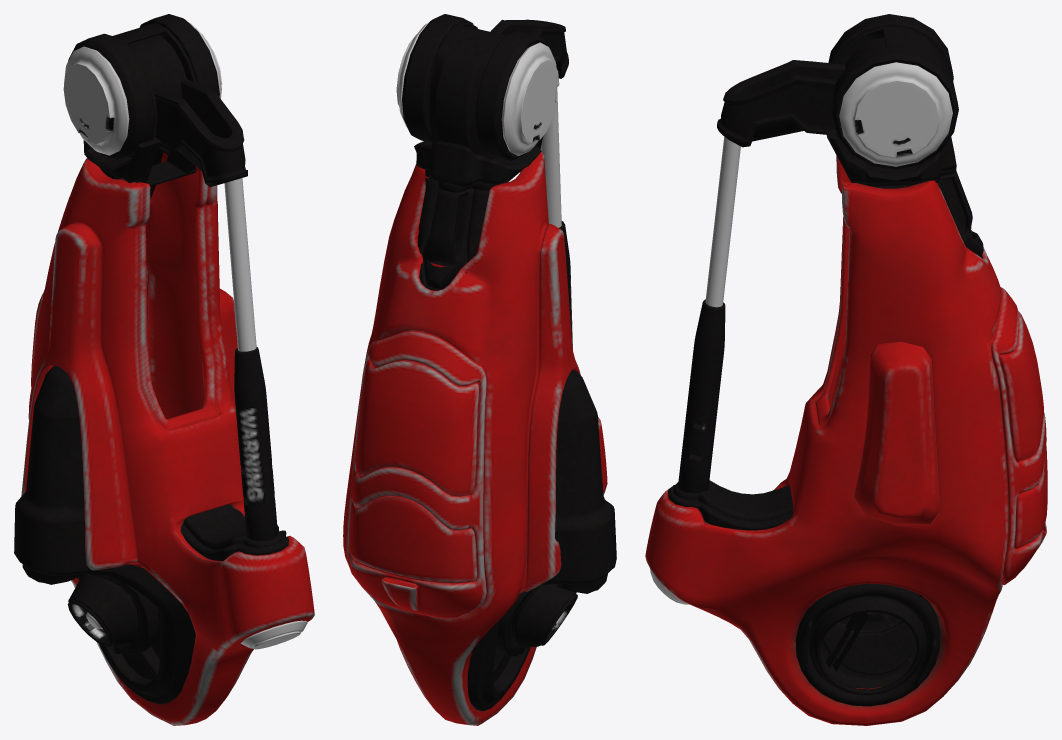
File: leftThigh.glb
3 views of the same model, side by side, from view 1: azimuth 30°, elevation 25°; view 2: azimuth 150°, elevation 25°; view 3: azimuth 270°, elevation 25° (orthographic). The views are drawn at different scales.
Visible parts, largest first — view 1: polySurface398_LegsMat_0.001, polySurface406_LegsMat_0, polySurface394_LegsMat_0, polySurface396_LegsMat_0, polySurface402_LegsMat_0, polySurface395_LegsMat_0, polySurface405_LegsMat_0, polySurface397_LegsMat_0, polySurface404_LegsMat_0; view 2: polySurface398_LegsMat_0.001, polySurface406_LegsMat_0, polySurface395_LegsMat_0, polySurface394_LegsMat_0, polySurface397_LegsMat_0, polySurface396_LegsMat_0; view 3: polySurface398_LegsMat_0.001, polySurface394_LegsMat_0, polySurface407_LegsMat_0, polySurface396_LegsMat_0, polySurface395_LegsMat_0, polySurface406_LegsMat_0, polySurface402_LegsMat_0, polySurface405_LegsMat_0, polySurface397_LegsMat_0.
Boxes of the visible parts, x1,y1,x2,y2 form: polySurface398_LegsMat_0.001: (21, 152, 314, 725); polySurface406_LegsMat_0: (14, 365, 195, 704); polySurface394_LegsMat_0: (63, 14, 221, 159); polySurface396_LegsMat_0: (153, 79, 247, 187); polySurface402_LegsMat_0: (234, 347, 277, 540); polySurface395_LegsMat_0: (83, 23, 197, 198); polySurface405_LegsMat_0: (180, 504, 288, 560); polySurface397_LegsMat_0: (224, 178, 256, 351); polySurface404_LegsMat_0: (240, 620, 307, 649); polySurface398_LegsMat_0.001: (343, 152, 607, 725); polySurface406_LegsMat_0: (467, 369, 616, 711); polySurface395_LegsMat_0: (414, 22, 543, 290); polySurface394_LegsMat_0: (396, 14, 559, 160); polySurface397_LegsMat_0: (540, 87, 561, 227); polySurface396_LegsMat_0: (490, 19, 568, 78); polySurface398_LegsMat_0.001: (645, 155, 1047, 725); polySurface394_LegsMat_0: (828, 14, 958, 169); polySurface407_LegsMat_0: (795, 583, 939, 706); polySurface396_LegsMat_0: (717, 60, 845, 147); polySurface395_LegsMat_0: (825, 26, 983, 258); polySurface406_LegsMat_0: (820, 593, 940, 688); polySurface402_LegsMat_0: (678, 299, 725, 493); polySurface405_LegsMat_0: (668, 480, 793, 530); polySurface397_LegsMat_0: (705, 137, 740, 307).
Bounding box in the file's own units: 0.4961 × 1.42 × 0.7537.
2 materials, 2 textured.
